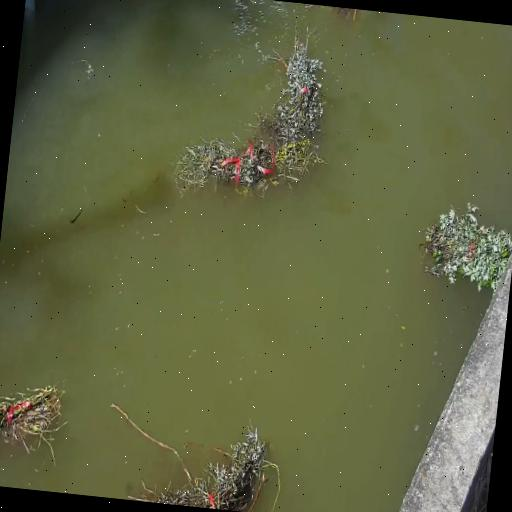twig: (166, 34, 338, 195), (128, 405, 278, 512), (423, 202, 512, 291), (0, 376, 66, 477)
